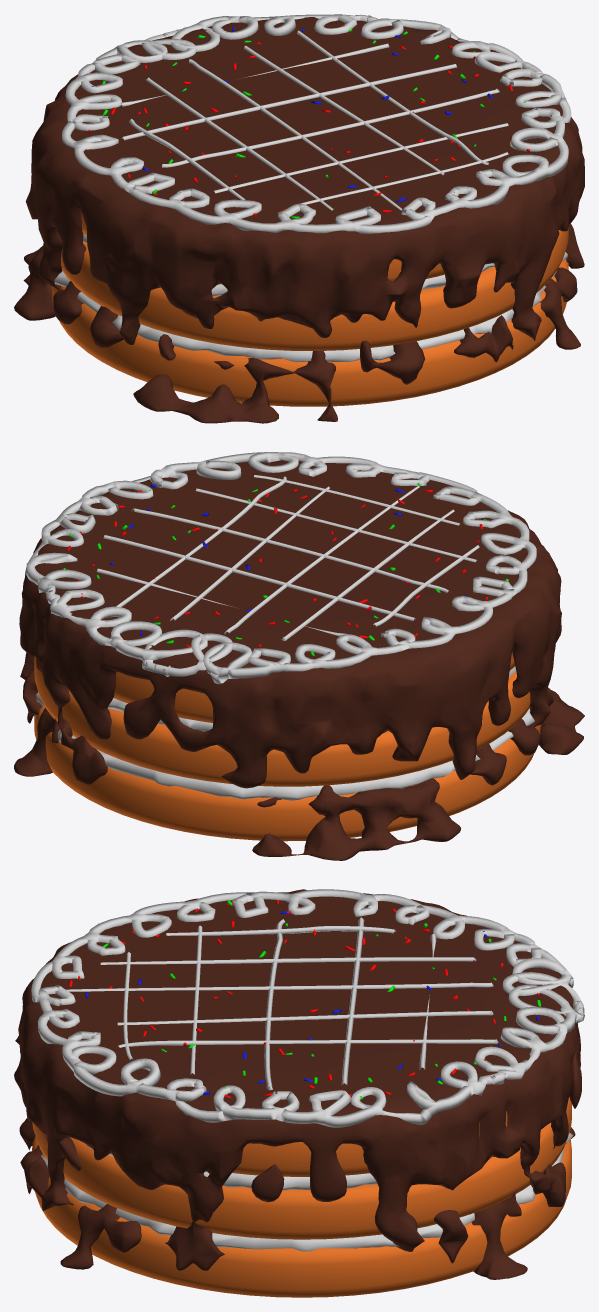
The model's file is Chococake.glb.
The picture shows the model from 3 angles, top to bottom: view 1: azimuth 30°, elevation 25°; view 2: azimuth 150°, elevation 25°; view 3: azimuth 270°, elevation 25°; orthographic projection. The views are drawn at different scales.
Parts seen in each view (by area): view 1: Cube, BezierCurve, Cylinder, Cylinder.002, BezierCurve.001, Cube.001, Cylinder.042; view 2: Cube, BezierCurve, Cylinder, Cylinder.002, BezierCurve.001, Cube.001, Cylinder.003, Cylinder.042, Cube.002; view 3: Cube, BezierCurve, Cylinder, Cylinder.002, BezierCurve.001, Cube.001, Cylinder.003, Cylinder.042, Cube.002.
Part boxes in pixels (left/top/right/bottom): Cube: left=14, top=17, right=584, bottom=423; BezierCurve: left=62, top=14, right=571, bottom=234; Cylinder: left=51, top=259, right=568, bottom=406; Cylinder.002: left=61, top=227, right=568, bottom=350; BezierCurve.001: left=121, top=30, right=508, bottom=210; Cube.001: left=54, top=252, right=567, bottom=362; Cylinder.042: left=88, top=24, right=538, bottom=218; Cube: left=14, top=460, right=584, bottom=860; BezierCurve: left=26, top=452, right=536, bottom=684; Cylinder: left=34, top=706, right=541, bottom=841; Cylinder.002: left=34, top=656, right=530, bottom=786; BezierCurve.001: left=96, top=475, right=479, bottom=640; Cube.001: left=36, top=692, right=534, bottom=800; Cylinder.003: left=113, top=652, right=515, bottom=722; Cylinder.042: left=63, top=471, right=510, bottom=655; Cube.002: left=108, top=666, right=516, bottom=731; Cube: left=14, top=889, right=581, bottom=1279; BezierCurve: left=31, top=889, right=584, bottom=1127; Cylinder: left=31, top=1136, right=571, bottom=1297; Cylinder.002: left=32, top=1097, right=571, bottom=1239; BezierCurve.001: left=66, top=917, right=498, bottom=1090; Cube.001: left=41, top=1132, right=573, bottom=1251; Cylinder.003: left=232, top=1111, right=507, bottom=1176; Cylinder.042: left=69, top=900, right=540, bottom=1100; Cube.002: left=86, top=1144, right=377, bottom=1190.
Bounding box in the file's own units: 415 × 165 × 421.
